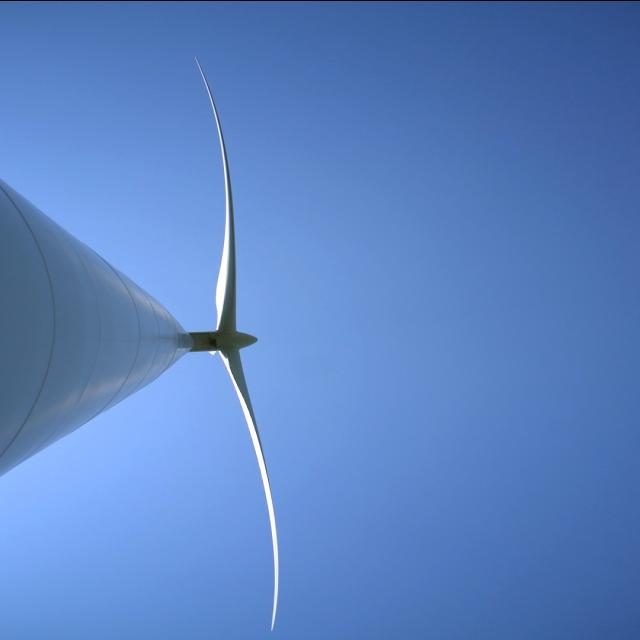blade 1: (227, 392, 299, 625)
blade 2: (188, 103, 258, 310)
